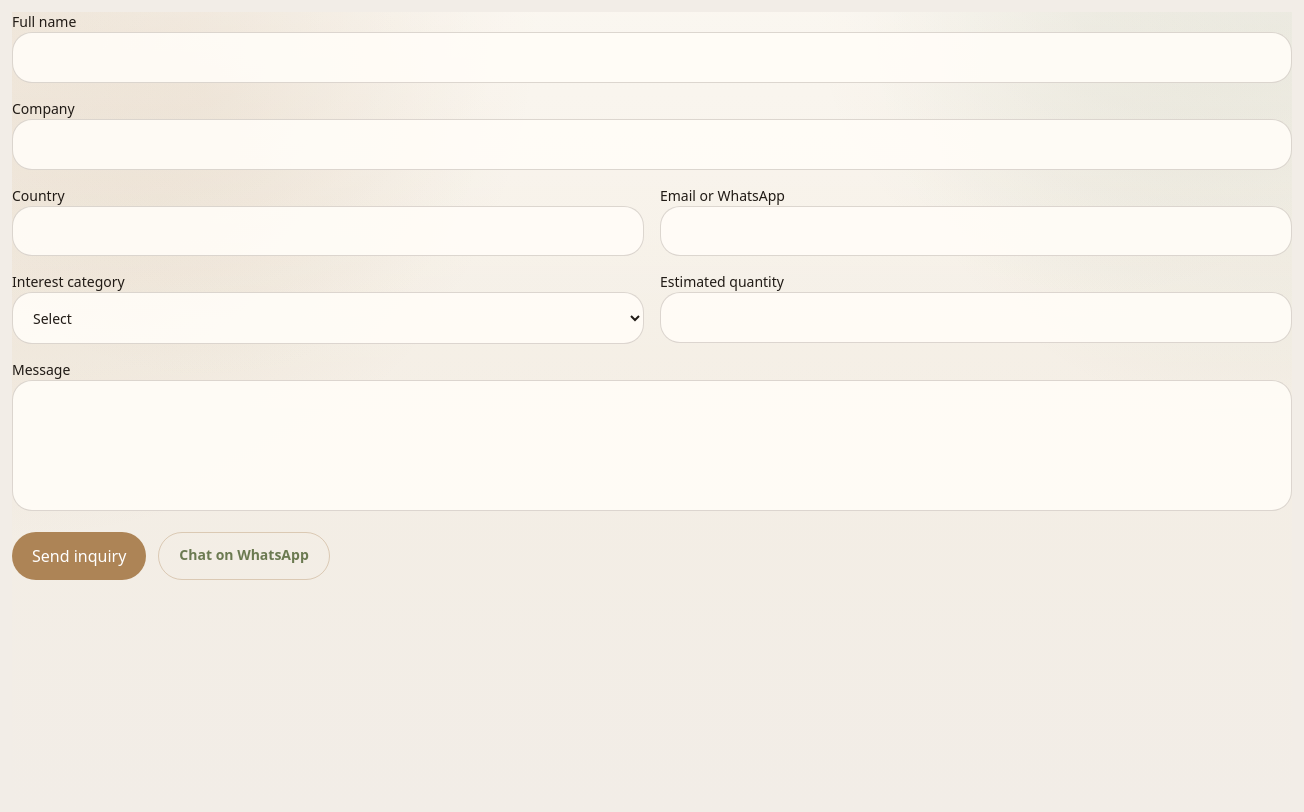
it: InquiryForm › shows validation feedback when submitted empty
Click the button "Send inquiry". click: (79, 556)
box: [12,532,146,580]
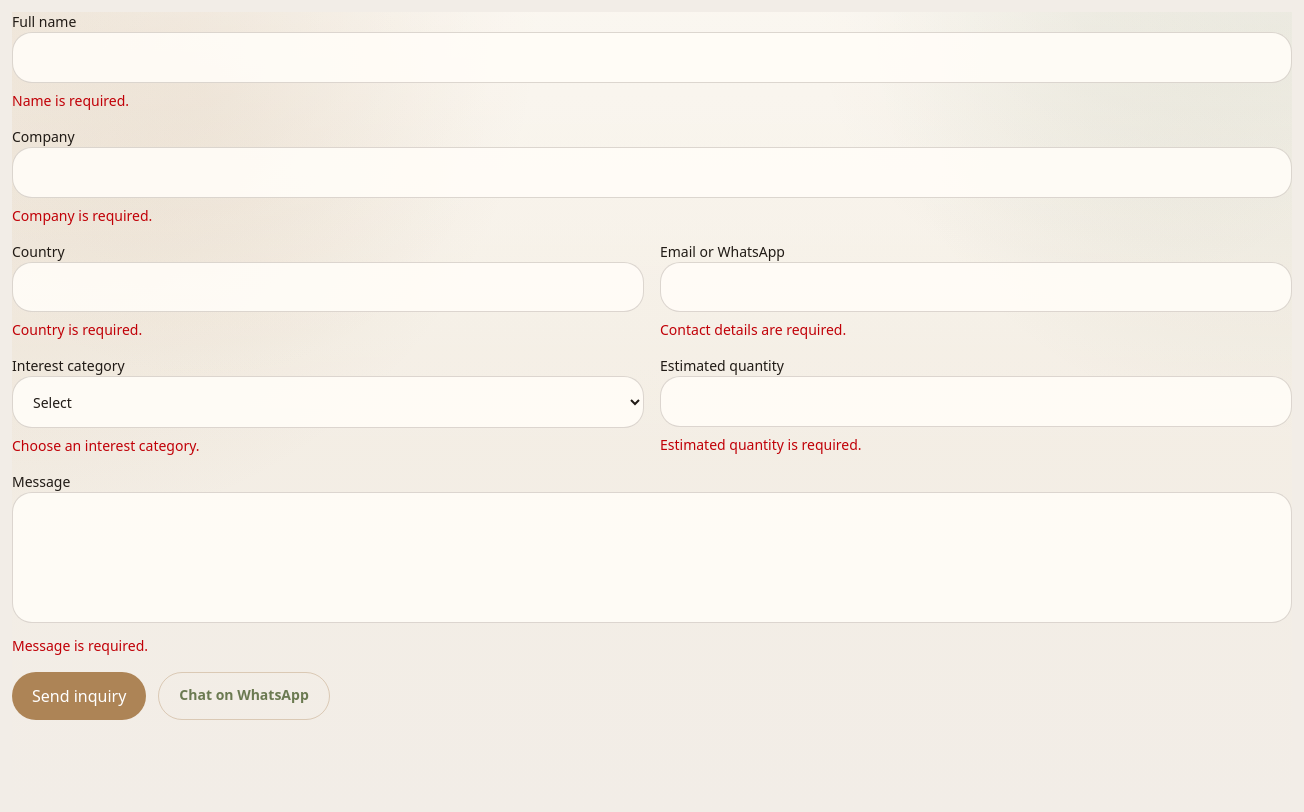
Expected: the text "Name is required." is shown, [12,91,129,110]
Expected: the text "Company is required." is shown, [12,206,152,225]
Expected: the text "Choose an interest category." is shown, [12,436,200,455]
